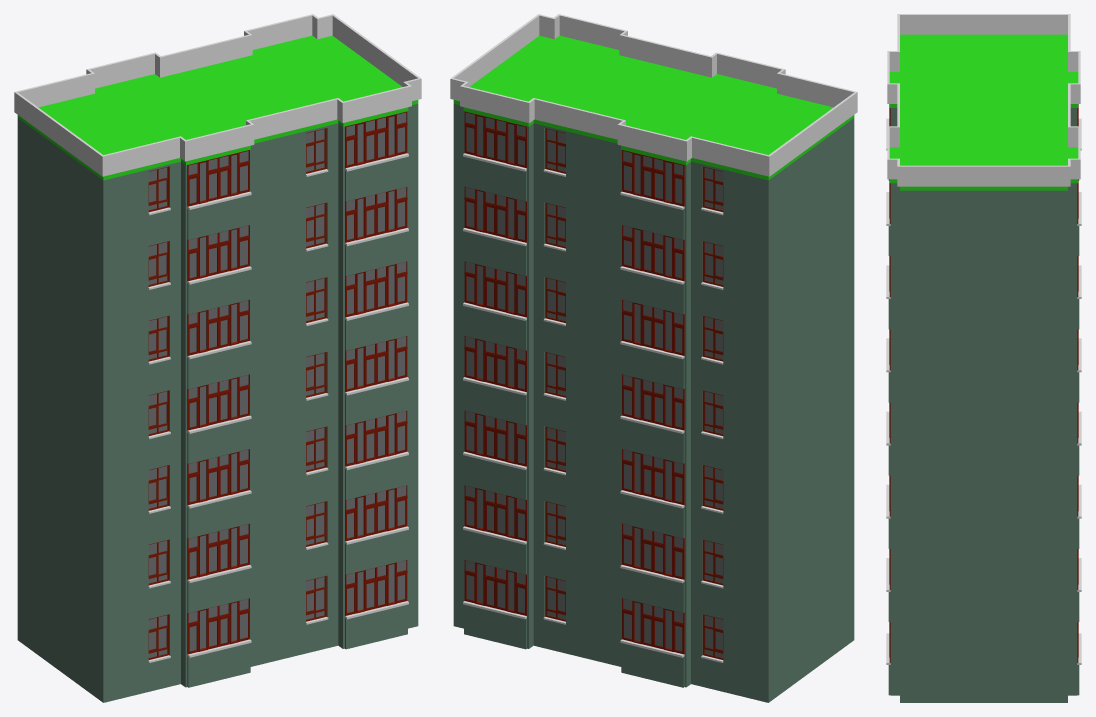
Rendered from SM_Building_7.fbx.
3 renders of one model, left to right at view 1: azimuth 30°, elevation 25°; view 2: azimuth 150°, elevation 25°; view 3: azimuth 270°, elevation 25°, orthographic.
Parts seen in each view (by area): view 1: Plane.025; view 2: Plane.025; view 3: Plane.025.
Part boxes in pixels (x1=…): Plane.025: x1=14, y1=14, x2=421, y2=702; Plane.025: x1=450, y1=14, x2=857, y2=702; Plane.025: x1=886, y1=14, x2=1081, y2=702.
Bounding box in the file's own units: 1441 × 2362 × 778.
